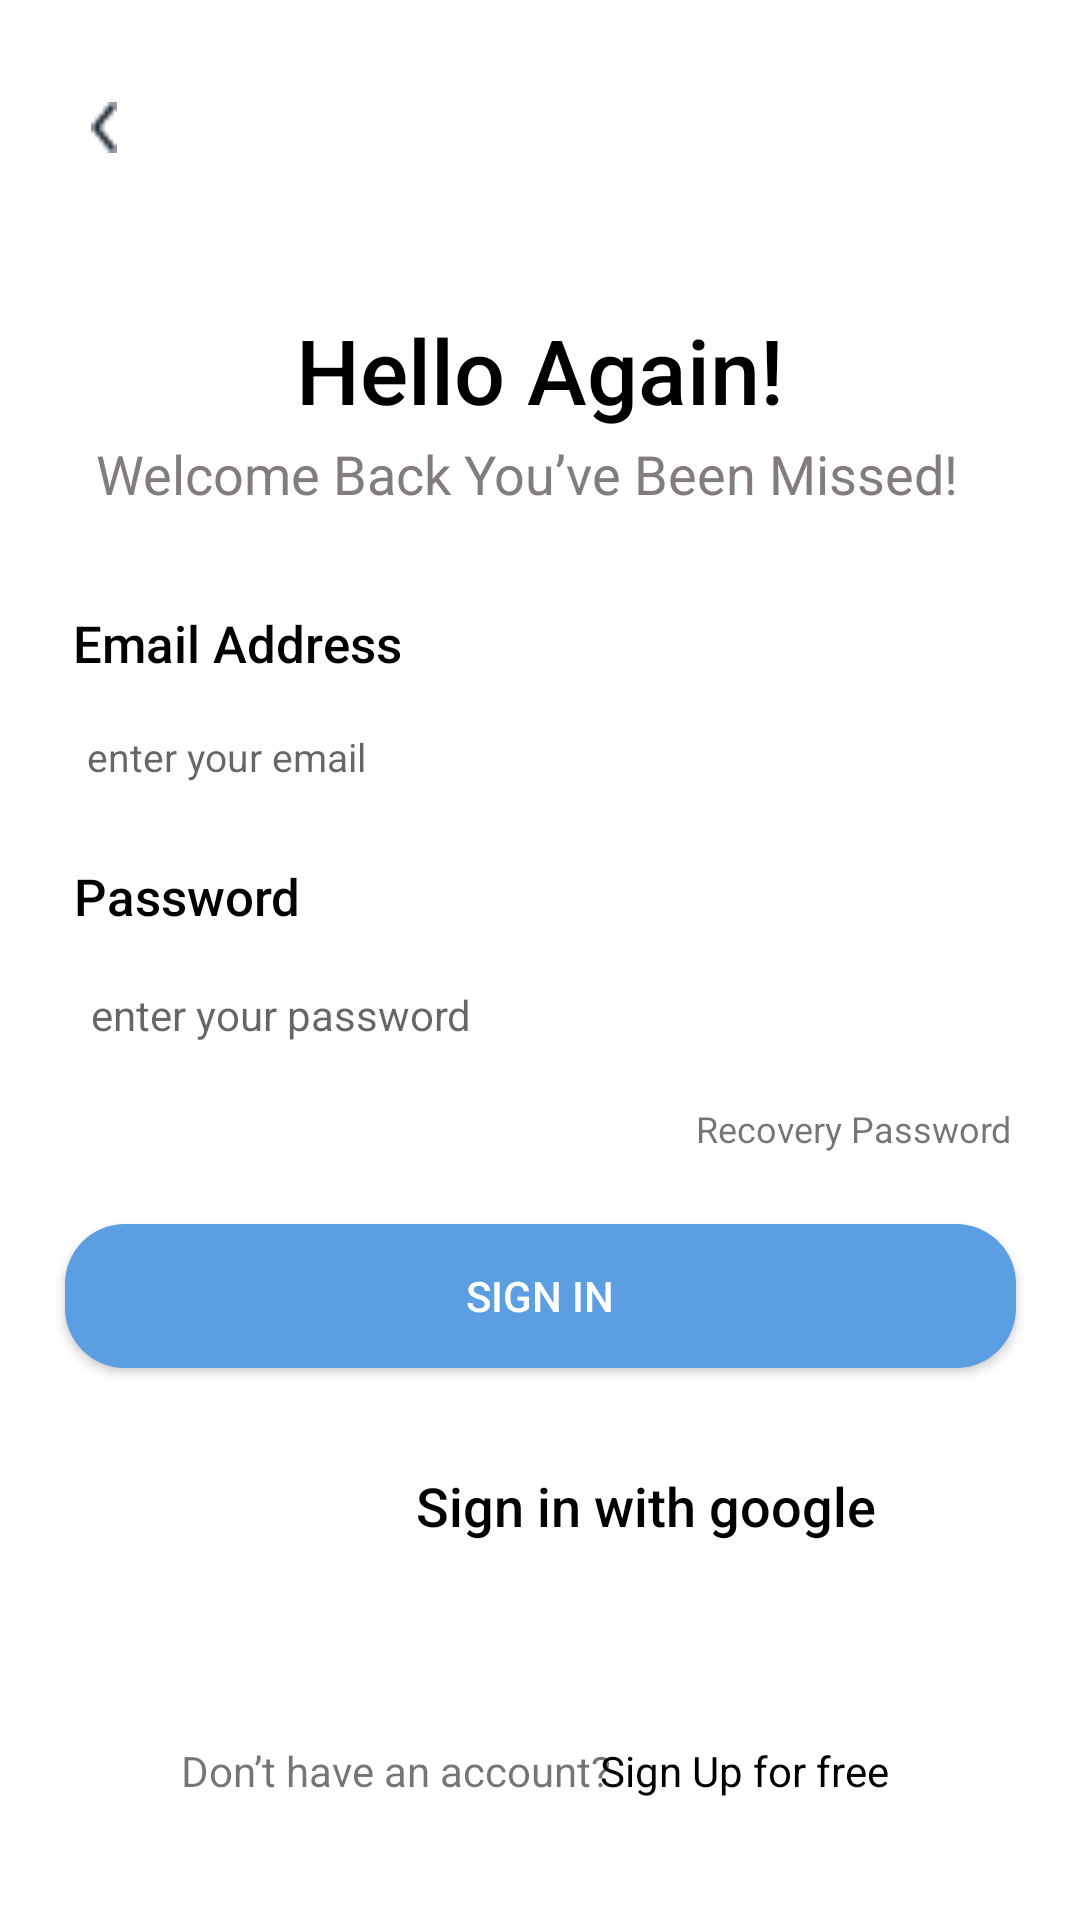

Locate icon controls on the screen. Image size 1080px×1920px, boxes as (x1, y1, x2, y2).
back: (91, 102, 117, 153)
